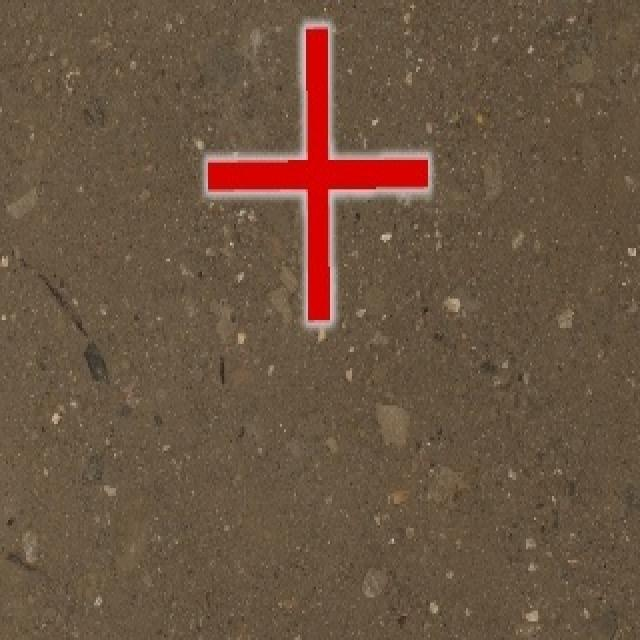x_marker: (207, 26, 427, 322)
